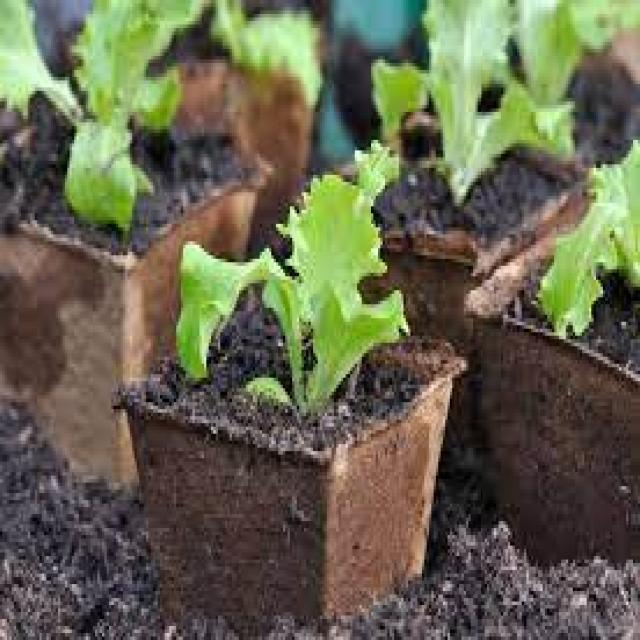Lettuce-Not-Ready-to-Harvest: (174, 137, 411, 408), (0, 0, 207, 229), (374, 0, 576, 200)
